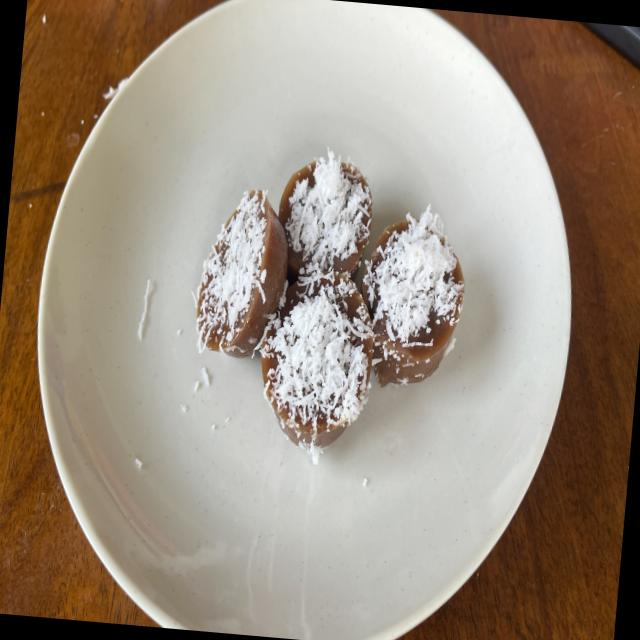Kuih lompang: (260, 272, 373, 451), (361, 205, 464, 386), (196, 189, 288, 357), (278, 149, 372, 284)
